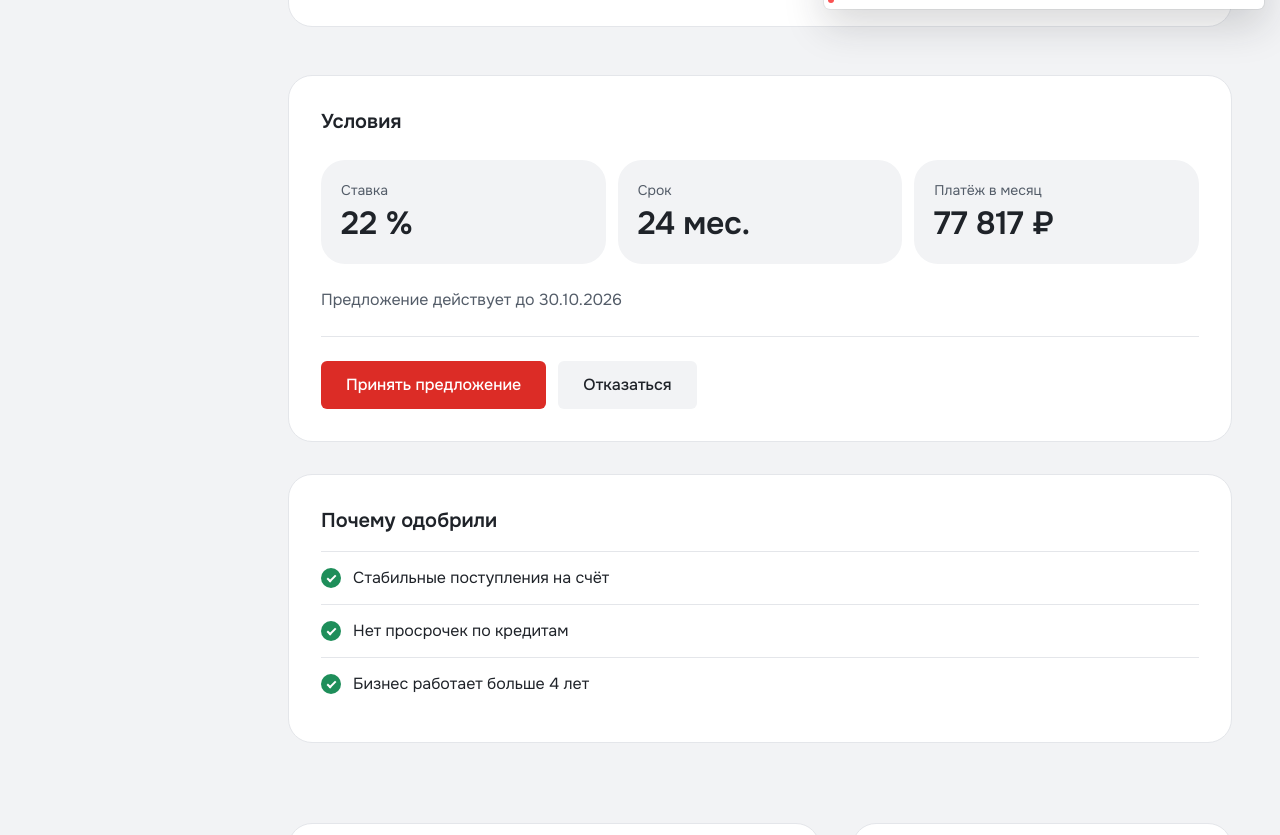
409 OFFER_EXPIRED: понятная ошибка и повторное чтение при конфликте
This screenshot has width=1280, height=835.
(page scrolled)
Click the button "Принять предложение" at point(434, 385), box [321,361,546,409]
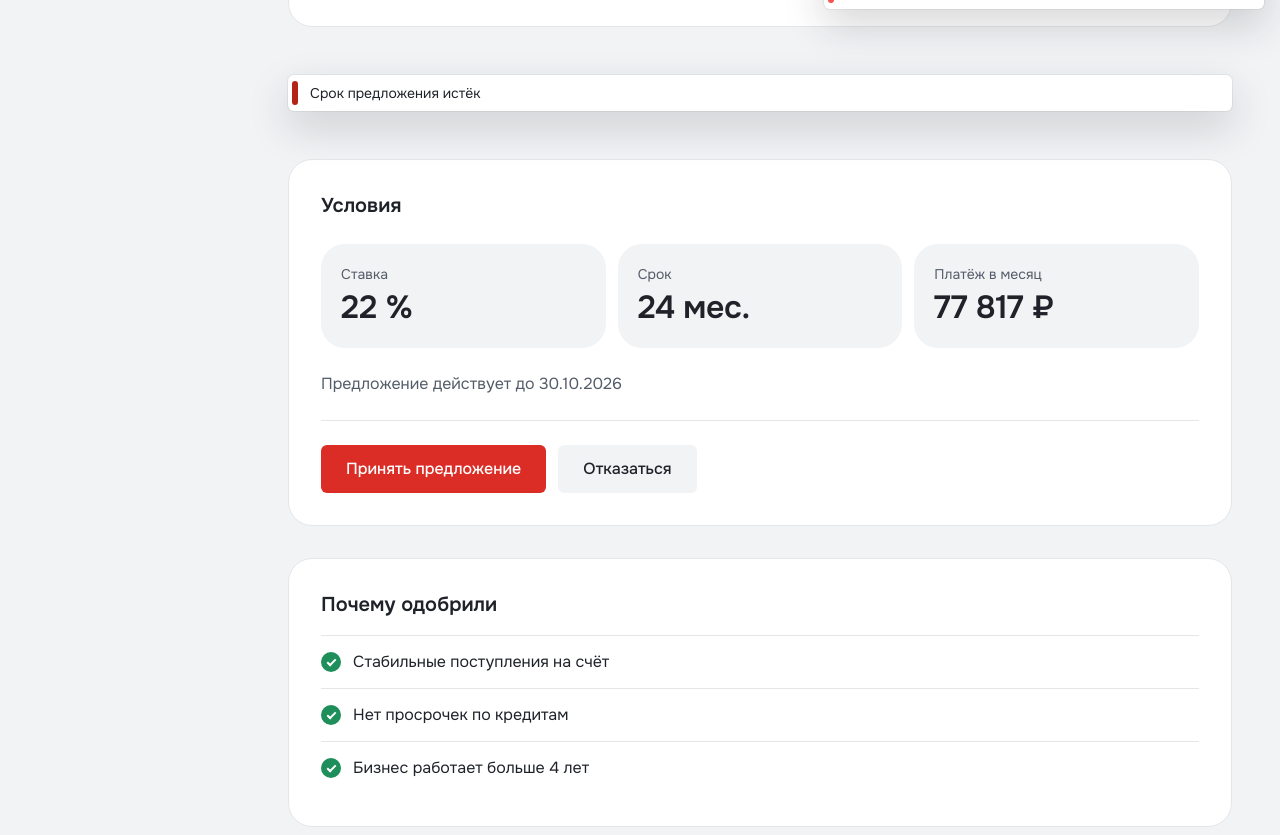
Expected: the text "Срок предложения истёк" is shown, [310,84,481,102]
